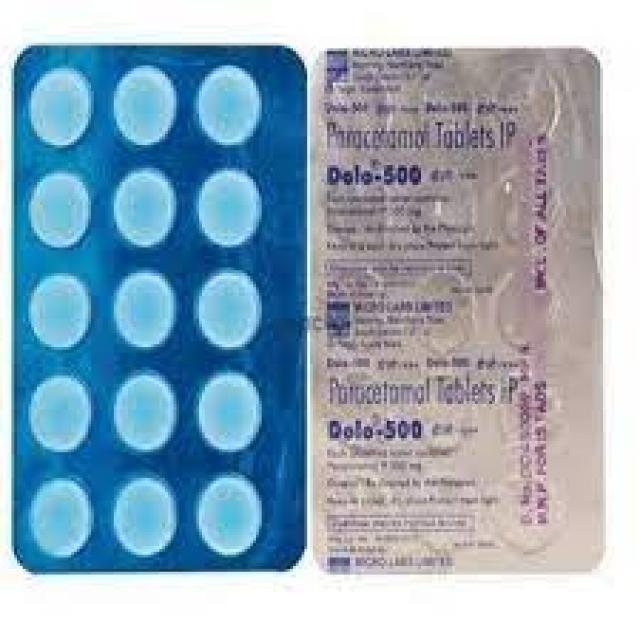authentic: (4, 34, 310, 579), (306, 36, 608, 584)
